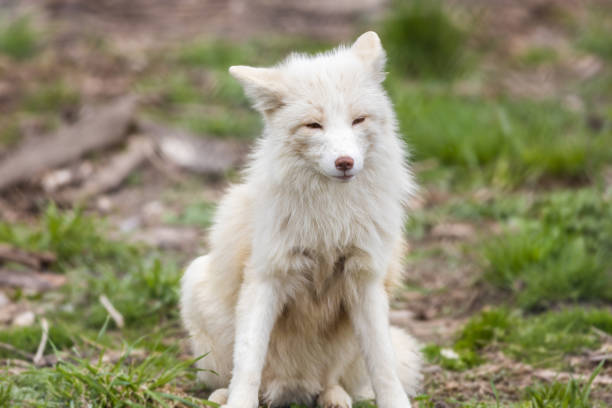arcticfox: (288, 81, 386, 218)
